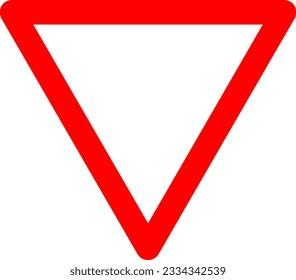Give Way: (9, 5, 292, 248)
